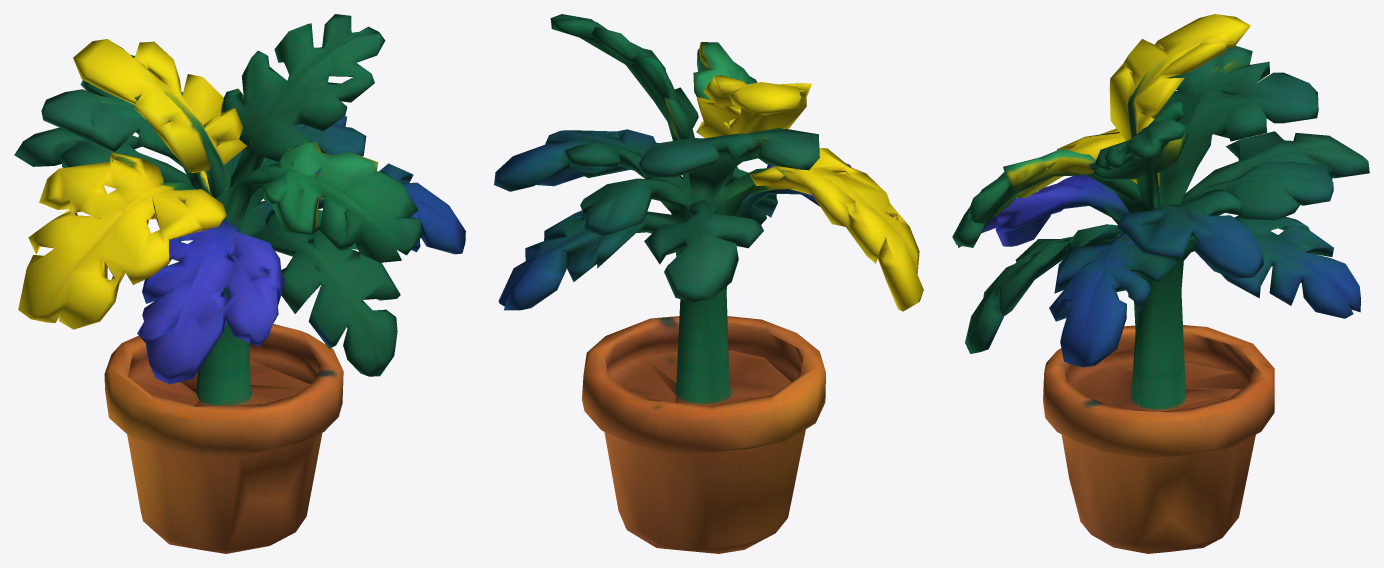
Rendered from floor_plant.glb.
3 renders of one model, left to right at view 1: azimuth 30°, elevation 25°; view 2: azimuth 150°, elevation 25°; view 3: azimuth 270°, elevation 25°, orthographic. The views are drawn at different scales.
Visible parts, largest first — view 1: low; view 2: low; view 3: low.
Part boxes in pixels (x1=…): low: x1=14, y1=14, x2=465, y2=553; low: x1=494, y1=14, x2=923, y2=553; low: x1=952, y1=14, x2=1369, y2=553.
Bounding box in the file's own units: 0.898 × 0.9779 × 0.8.
Materials: 1 (1 with a texture image).
